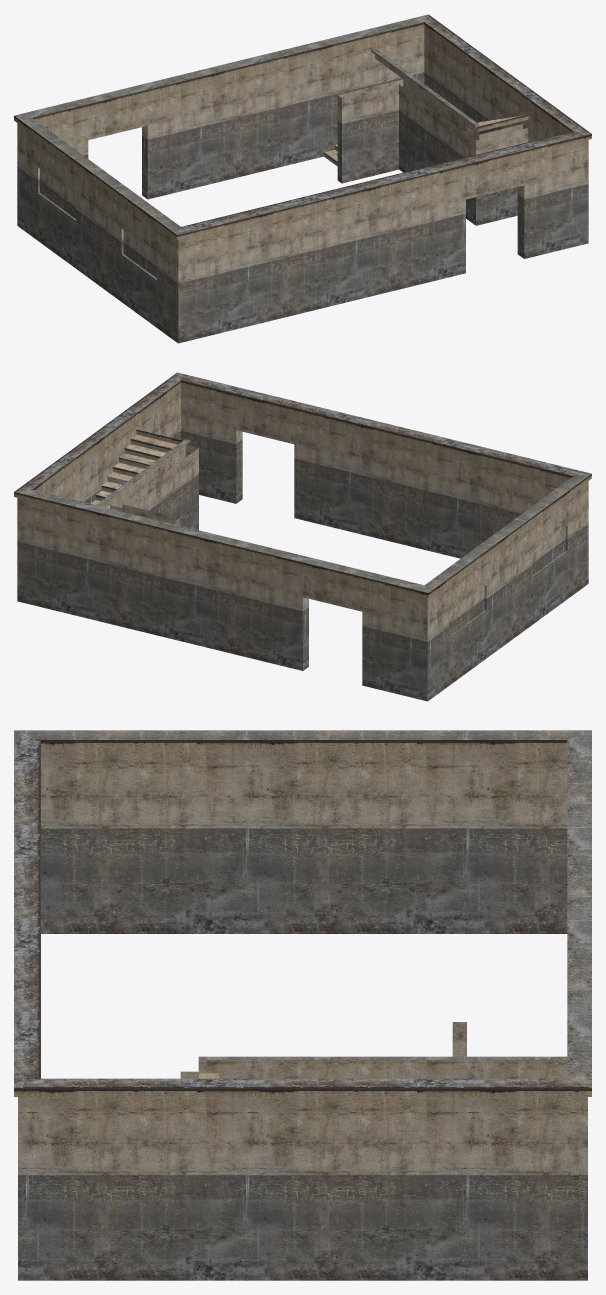
File: buildinga_id_1_wallstuccob_dm_0_lev1.glb
The picture shows the model from 3 angles, top to bottom: view 1: azimuth 30°, elevation 25°; view 2: azimuth 150°, elevation 25°; view 3: azimuth 270°, elevation 25°; orthographic projection. The views are drawn at different scales.
Parts seen in each view (by area): view 1: buildinga_id_1_wallstuccob_dm_0_lev1; view 2: buildinga_id_1_wallstuccob_dm_0_lev1; view 3: buildinga_id_1_wallstuccob_dm_0_lev1.
Boxes of the visible parts, x1,y1,x2,y2 form: buildinga_id_1_wallstuccob_dm_0_lev1: [14, 14, 591, 343]; buildinga_id_1_wallstuccob_dm_0_lev1: [14, 372, 591, 701]; buildinga_id_1_wallstuccob_dm_0_lev1: [14, 730, 591, 1280].
Size of the model in its own units: 10.29 by 2.61 by 7.02.
1 material, 1 textured.
